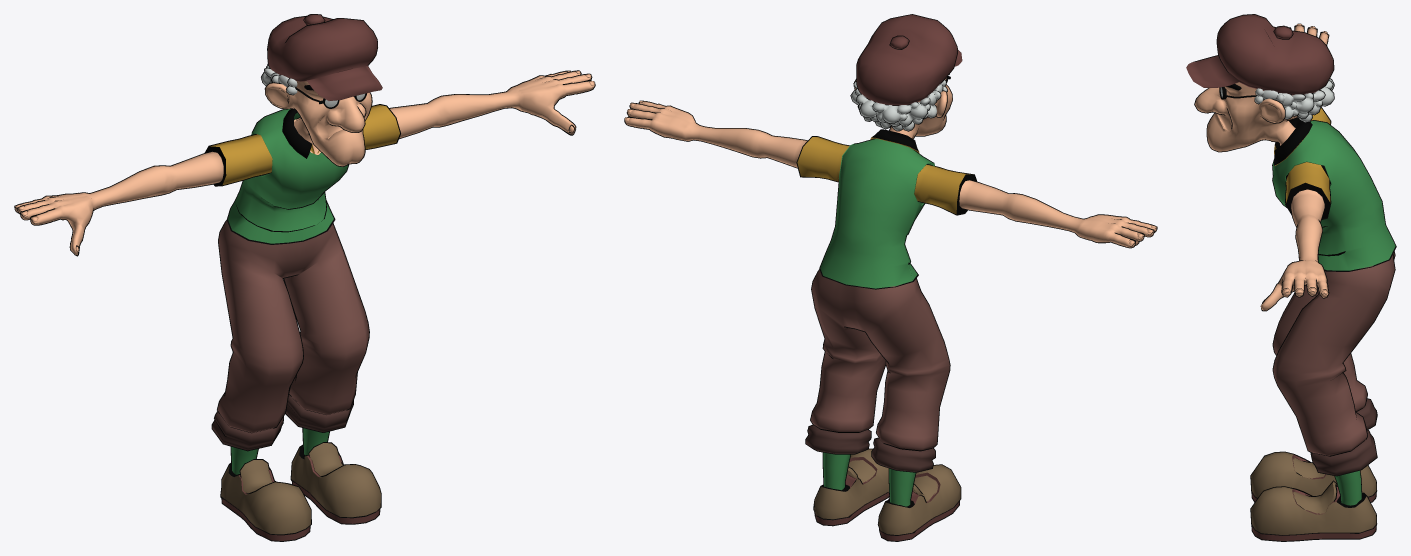
The model's file is BigPlayer_01.fbx.
3 views of the same model, side by side, from view 1: azimuth 30°, elevation 25°; view 2: azimuth 150°, elevation 25°; view 3: azimuth 270°, elevation 25° (orthographic). The views are drawn at different scales.
Parts seen in each view (by area): view 1: legs, hands, shoes, shirt, Hat, head_retopo_ready, Cube.005, Cube.001; view 2: legs, shirt, hands, Hat, shoes, Cube.005, Icosphere.018, head_retopo_ready; view 3: legs, shirt, shoes, Hat, head_retopo_ready, hands, Cube.005, Icosphere.018, Cube.001.
Boxes of the visible parts, bbox=[...] form: legs: bbox=[211, 220, 369, 474]; hands: bbox=[14, 70, 595, 256]; shoes: bbox=[220, 442, 381, 541]; shirt: bbox=[226, 109, 349, 244]; Hat: bbox=[267, 14, 382, 100]; head_retopo_ready: bbox=[264, 81, 372, 166]; Cube.005: bbox=[204, 104, 400, 186]; Cube.001: bbox=[282, 109, 319, 158]; legs: bbox=[805, 269, 950, 506]; shirt: bbox=[819, 138, 934, 289]; hands: bbox=[624, 100, 1157, 248]; Hat: bbox=[856, 14, 962, 105]; shoes: bbox=[813, 448, 961, 541]; Cube.005: bbox=[796, 136, 977, 215]; Icosphere.018: bbox=[850, 80, 947, 131]; head_retopo_ready: bbox=[854, 76, 952, 139]; legs: bbox=[1272, 251, 1395, 505]; shirt: bbox=[1272, 120, 1396, 271]; shoes: bbox=[1250, 451, 1377, 541]; Hat: bbox=[1186, 14, 1334, 95]; head_retopo_ready: bbox=[1194, 82, 1297, 152]; hands: bbox=[1260, 23, 1329, 311]; Cube.005: bbox=[1285, 107, 1331, 219]; Icosphere.018: bbox=[1254, 78, 1334, 122]; Cube.001: bbox=[1274, 118, 1312, 165].
Bounding box in the file's own units: 1811 × 1548 × 601.
